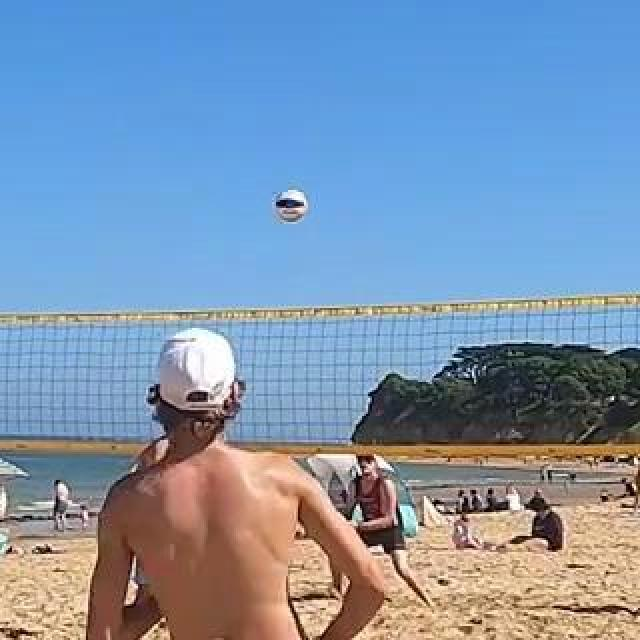volleyball: (277, 191, 309, 223)
